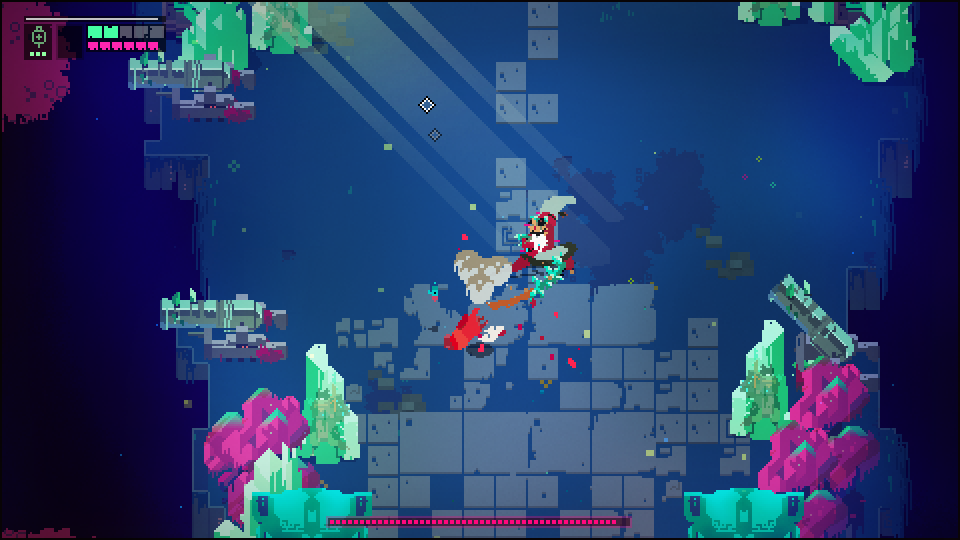hanged_man: (495, 193, 581, 304)
player: (442, 303, 494, 355)
